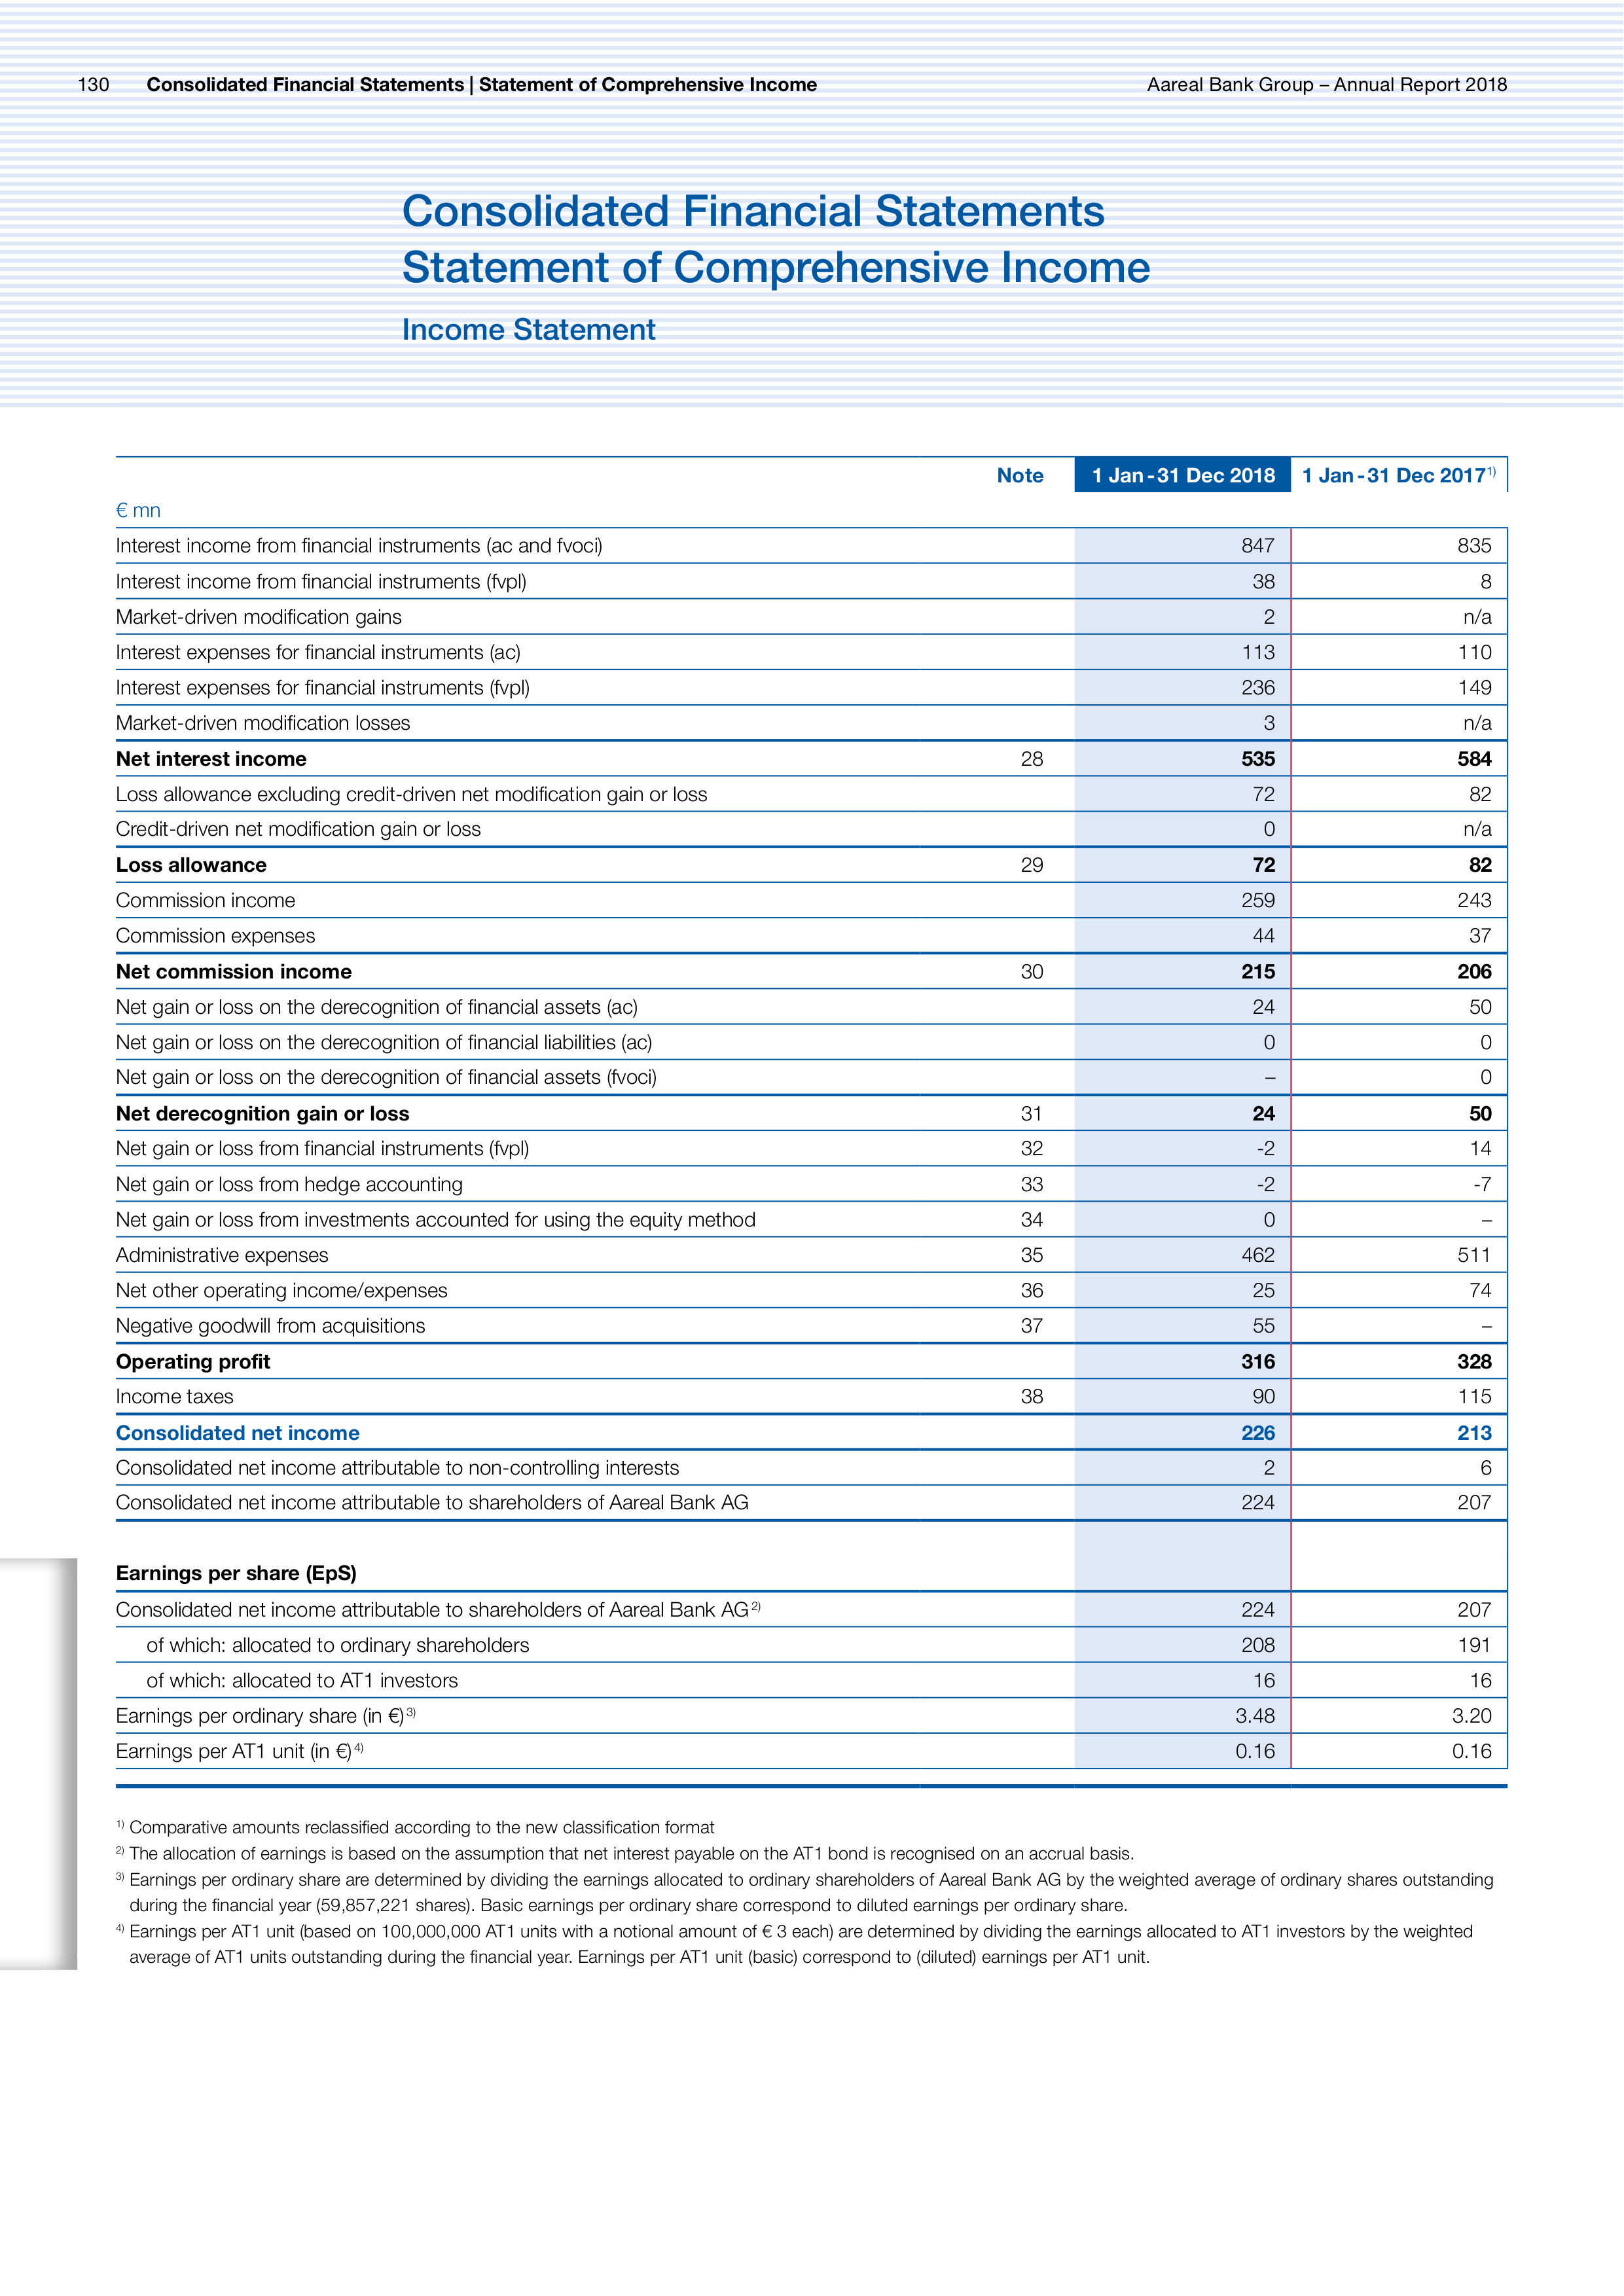income_statement: (93, 441, 1529, 1780)
